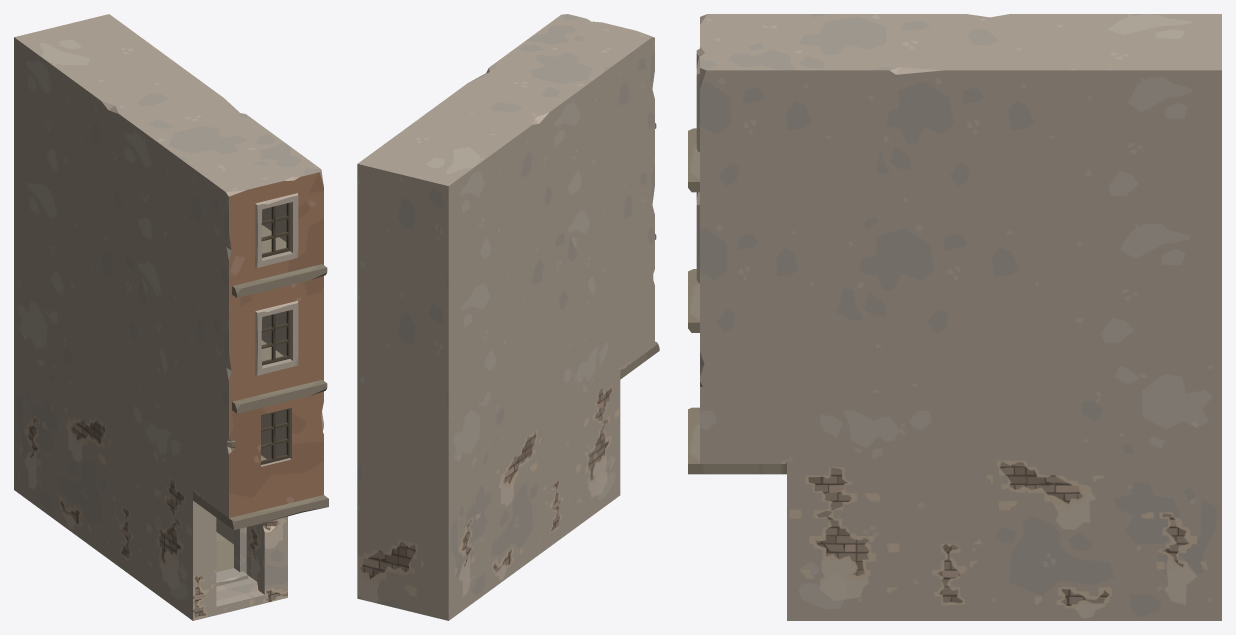
File: SM_Bld_Shop_02.glb
3 renders of one model, left to right at view 1: azimuth 30°, elevation 25°; view 2: azimuth 150°, elevation 25°; view 3: azimuth 270°, elevation 25°, orthographic. The views are drawn at different scales.
Parts seen in each view (by area): view 1: SM_Bld_Shop_02; view 2: SM_Bld_Shop_02; view 3: SM_Bld_Shop_02.
Boxes of the visible parts, <box> form: SM_Bld_Shop_02: <box>14,14,328,620</box>; SM_Bld_Shop_02: <box>357,14,659,620</box>; SM_Bld_Shop_02: <box>688,14,1221,620</box>.
Size of the model in its own units: 3.07 by 13.99 by 12.3.
Materials: 1 (1 with a texture image).
